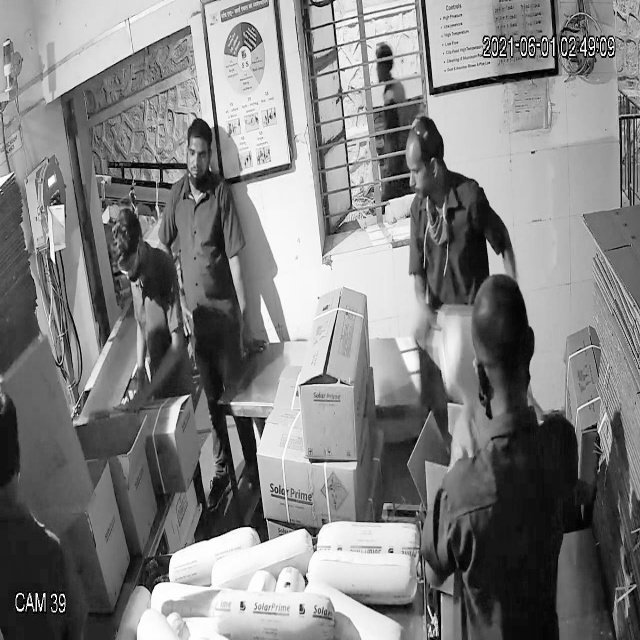Gafas: (110, 246, 149, 282)
Sin_gafas: (398, 153, 441, 185), (184, 142, 212, 172)
